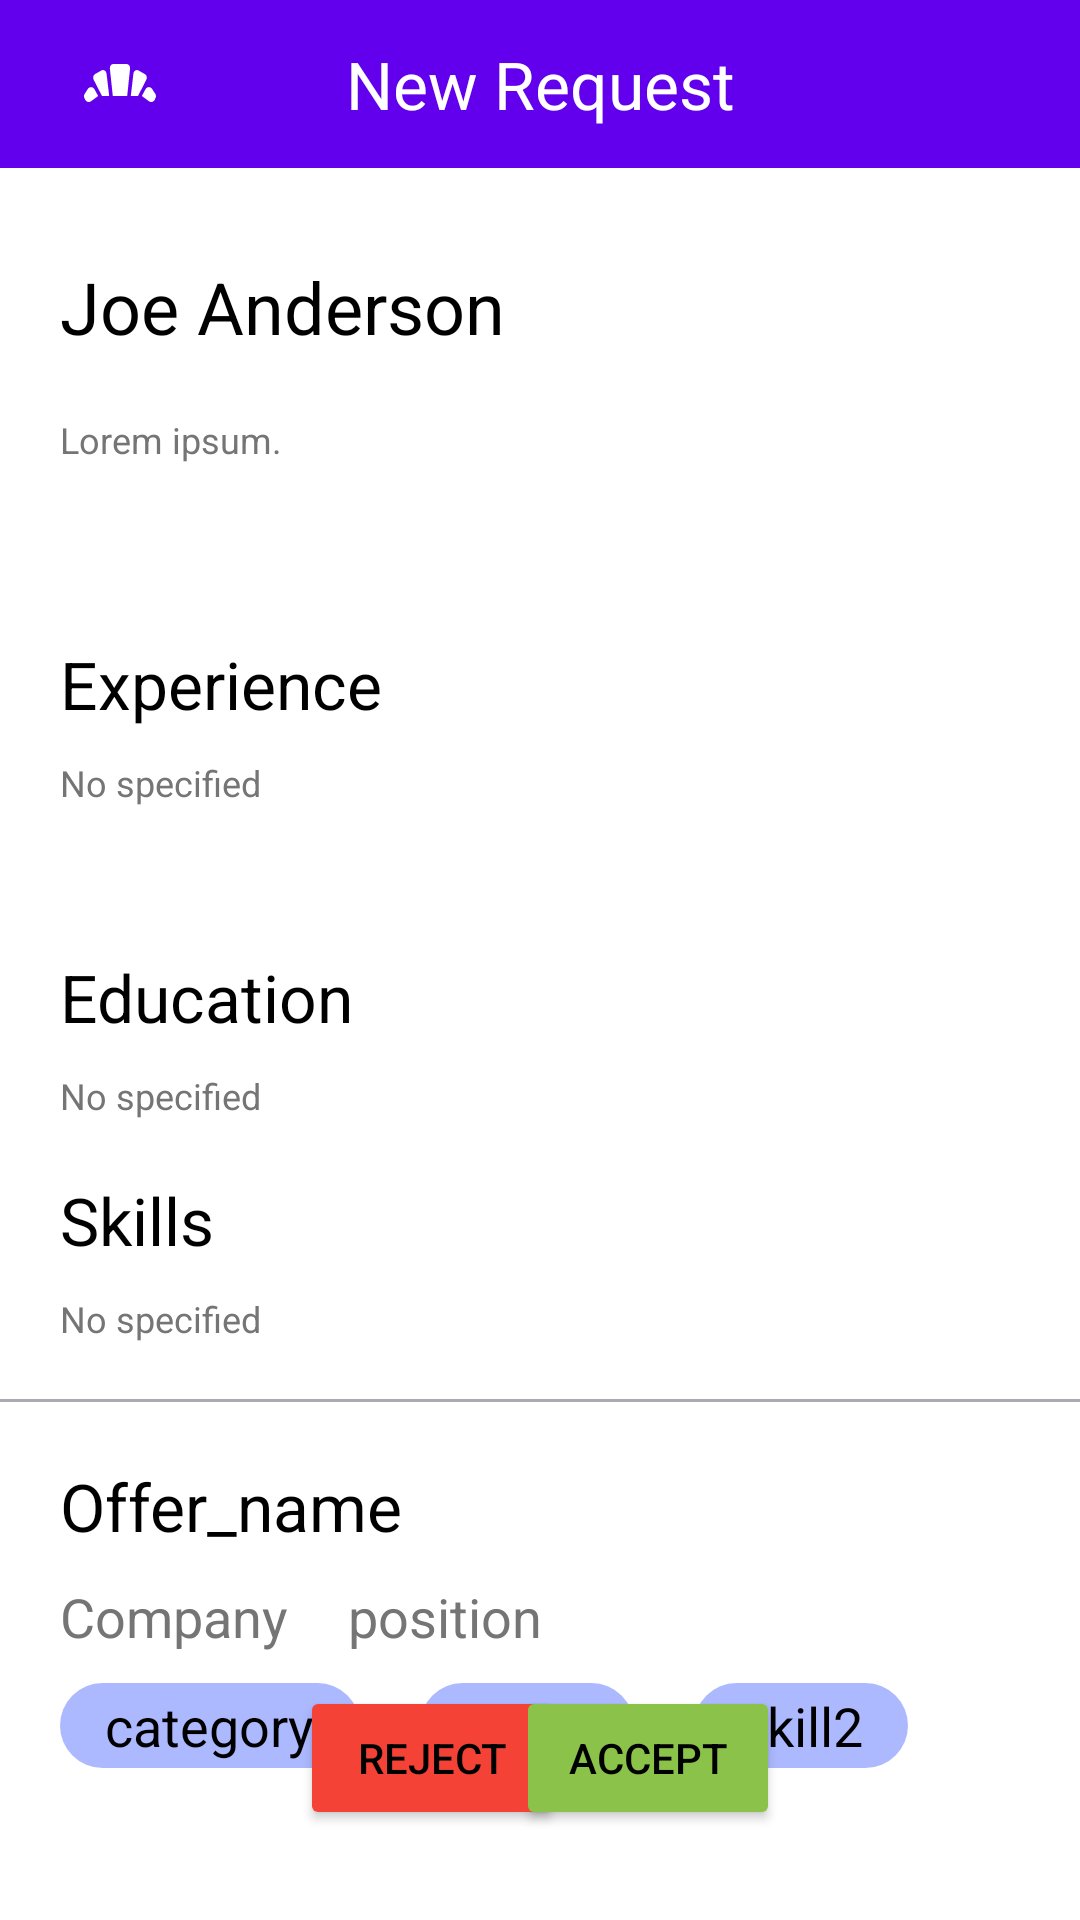

Point at icon controls on the screen. Image size 1080px x 1920px, points as (x,y).
croissant: (120,83)
